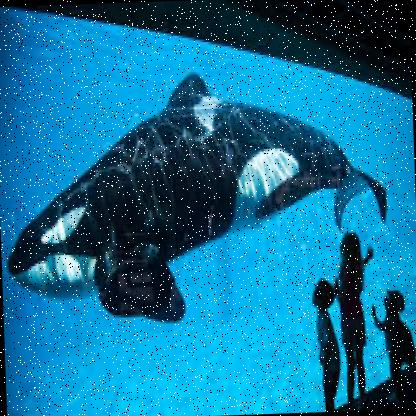killer_whale: (0, 44, 311, 315)
